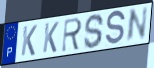K: (41, 21, 60, 54), (20, 24, 38, 58)
N: (125, 6, 149, 45)
R: (60, 16, 83, 54)
S: (104, 9, 127, 48), (83, 13, 105, 51)
